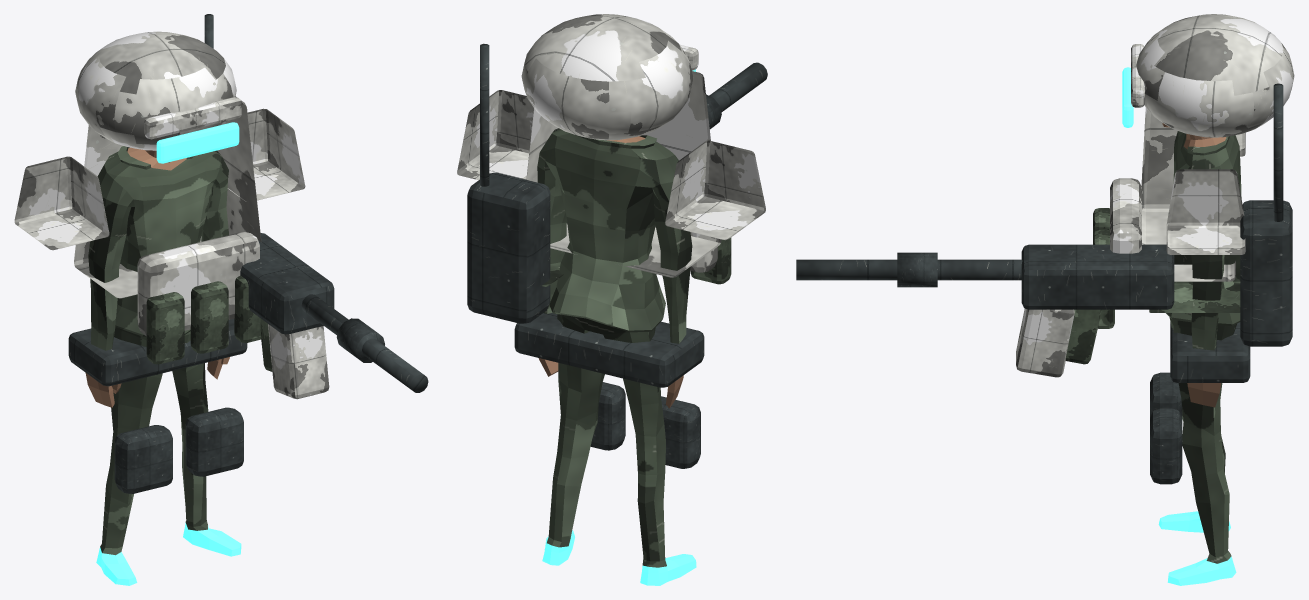
File: soldier.glb
3 views of the same model, side by side, from view 1: azimuth 30°, elevation 25°; view 2: azimuth 150°, elevation 25°; view 3: azimuth 270°, elevation 25° (orthographic). The views are drawn at different scales.
Visible parts, largest first — view 1: soldier_team_primary, BaseHuman_baked, soldier_armor_dark, soldier_team_accent, soldier_fabric_dark, soldier_glass_emissive; view 2: BaseHuman_baked, soldier_team_primary, soldier_armor_dark, soldier_fabric_dark, soldier_team_accent; view 3: soldier_armor_dark, soldier_team_primary, BaseHuman_baked, soldier_team_accent, soldier_fabric_dark.
Part boxes in pixels (left/top/right/bottom): soldier_team_primary: left=14, top=31, right=305, bottom=298; BaseHuman_baked: left=85, top=146, right=241, bottom=585; soldier_armor_dark: left=68, top=14, right=428, bottom=493; soldier_team_accent: left=137, top=97, right=329, bottom=399; soldier_fabric_dark: left=146, top=275, right=272, bottom=371; soldier_glass_emissive: left=156, top=122, right=239, bottom=163; BaseHuman_baked: left=537, top=128, right=696, bottom=585; soldier_team_primary: left=457, top=14, right=765, bottom=277; soldier_armor_dark: left=467, top=43, right=767, bottom=468; soldier_fabric_dark: left=542, top=237, right=731, bottom=286; soldier_team_accent: left=655, top=44, right=717, bottom=272; soldier_armor_dark: left=796, top=83, right=1292, bottom=484; soldier_team_primary: left=1136, top=14, right=1294, bottom=281; BaseHuman_baked: left=1158, top=123, right=1241, bottom=585; soldier_team_accent: left=1016, top=44, right=1144, bottom=377; soldier_fabric_dark: left=1065, top=208, right=1240, bottom=364.
Size of the model in its own units: 0.7574 by 1.45 by 1.24.
6 materials, 4 textured.
